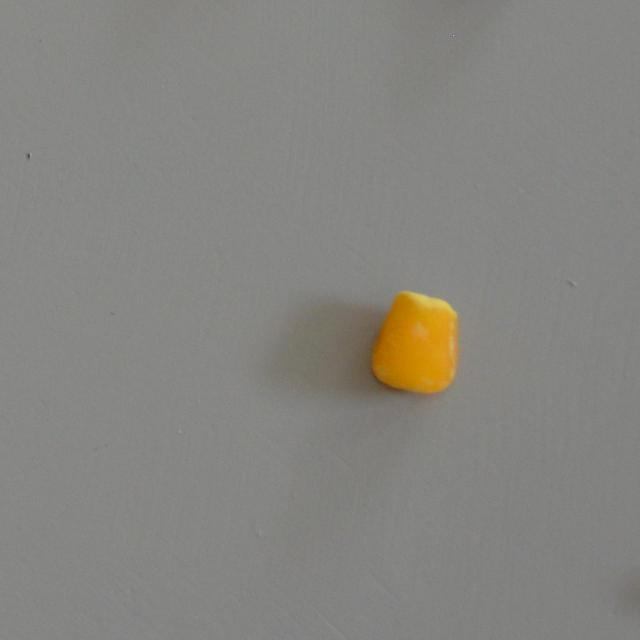pelicula: (368, 290, 460, 396)
